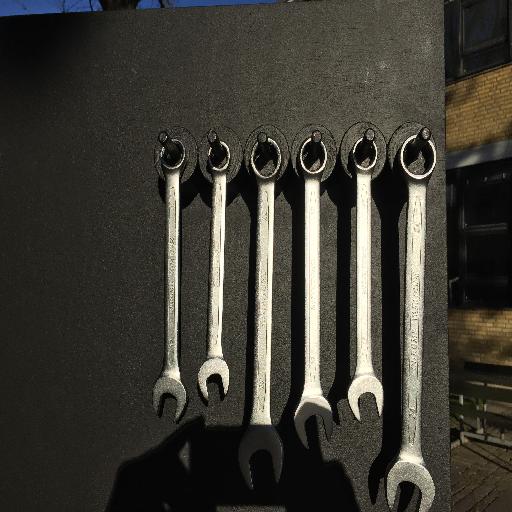bottom: (238, 424, 284, 493), (383, 454, 437, 512), (293, 396, 336, 453), (346, 374, 386, 422), (151, 372, 188, 423), (196, 356, 232, 405)
top: (398, 133, 438, 186), (249, 135, 285, 183), (298, 136, 329, 179), (157, 137, 190, 175), (349, 137, 379, 174), (206, 140, 233, 176)
